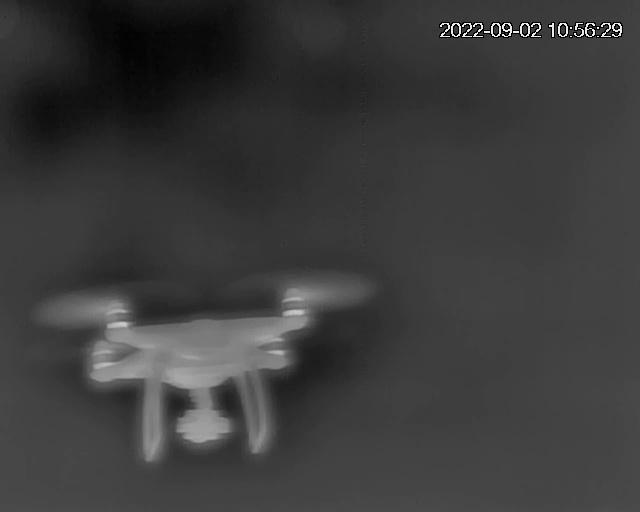DJI-Phantom: (38, 284, 378, 465)
